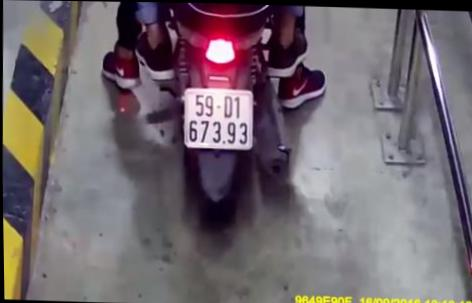LP: (182, 87, 253, 148)
